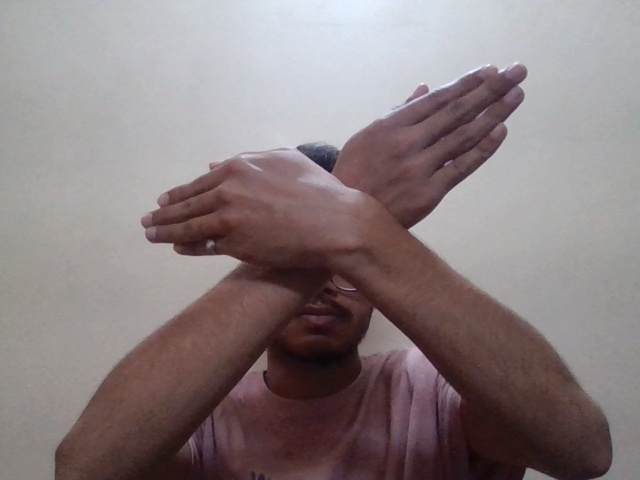feel: (93, 37, 589, 303)
